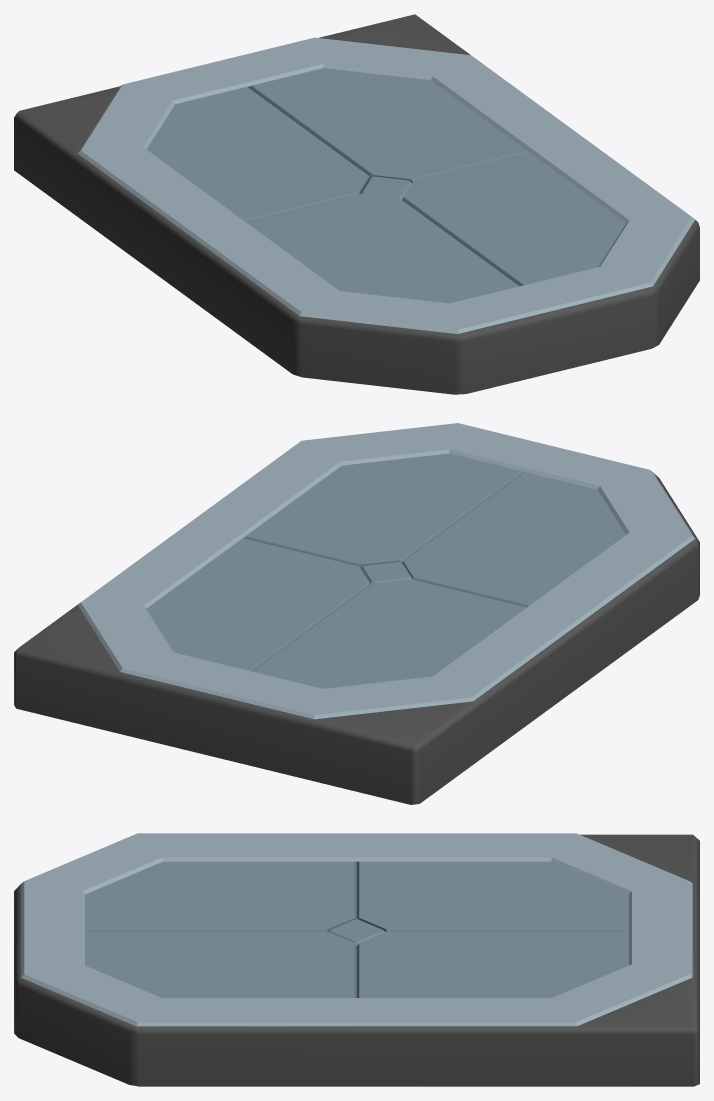
Rendered from platform_005.005.fbx.
3 renders of one model, top to bottom at view 1: azimuth 30°, elevation 25°; view 2: azimuth 150°, elevation 25°; view 3: azimuth 270°, elevation 25°, orthographic.
Visible parts, largest first — view 1: platform_005.005; view 2: platform_005.005; view 3: platform_005.005.
Boxes of the visible parts, bbox=[...] form: platform_005.005: bbox=[14, 14, 699, 394]; platform_005.005: bbox=[14, 423, 699, 804]; platform_005.005: bbox=[14, 833, 699, 1086].
Size of the model in its own units: 726 by 1070 by 105.
